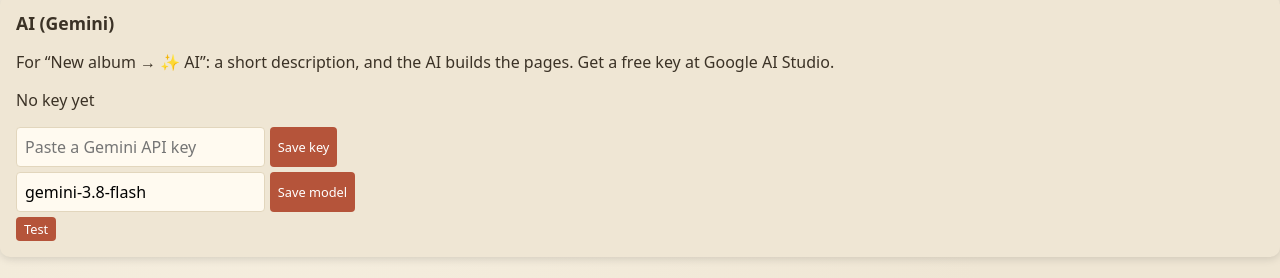
saving a key sends it once and clears the input
The width and height of the screenshot is (1280, 278).
Expected: the text "No key yet" is shown, [16,89,94,111]
Step 1. Type "AIzaSyTESTKEY-0123456789wxyz" into the password field labelled "Gemini API key" → (140, 147), box [16,127,265,167]
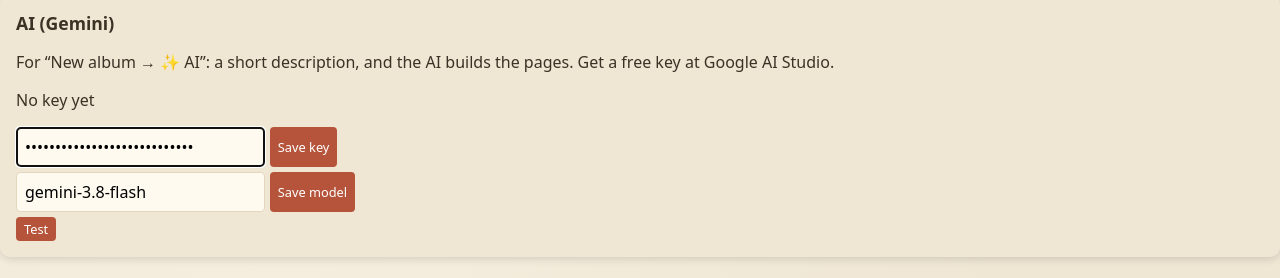
Step 2. Click the button "Save key" → (304, 147), box [270,127,337,167]
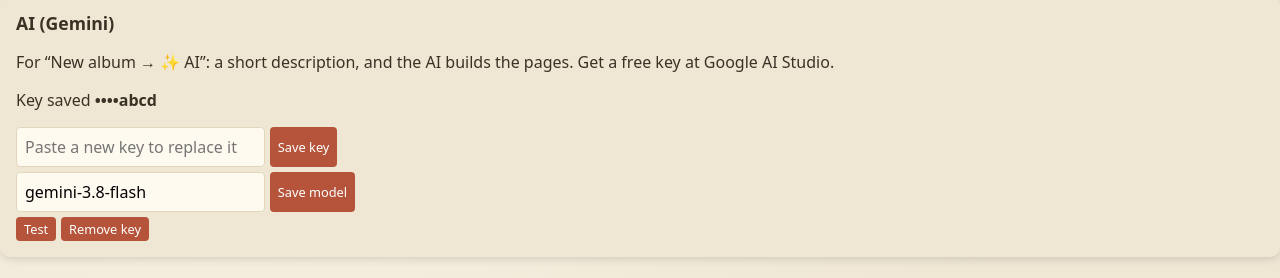
Result: the password field named "Gemini API key" is empty at [16,127,265,167]
Result: the text "••••abcd" is shown at [95,89,157,111]
